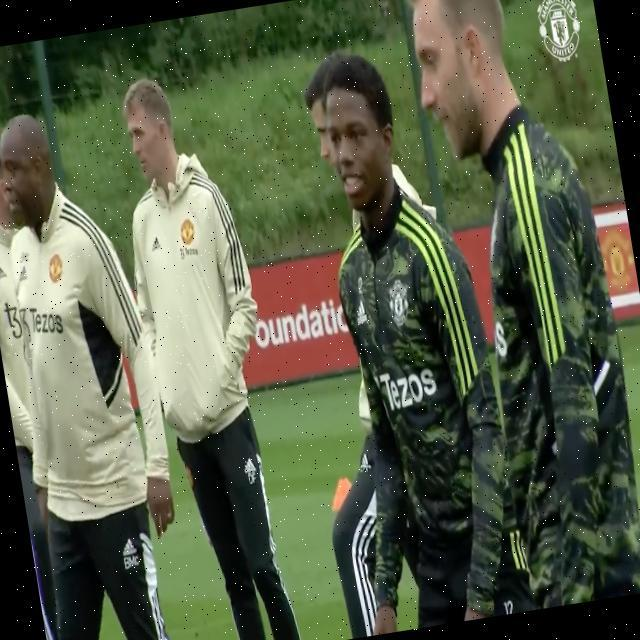Adidas: (353, 297, 370, 327), (121, 536, 139, 558), (150, 232, 163, 254), (243, 456, 257, 476), (16, 263, 30, 283), (0, 262, 8, 282)
